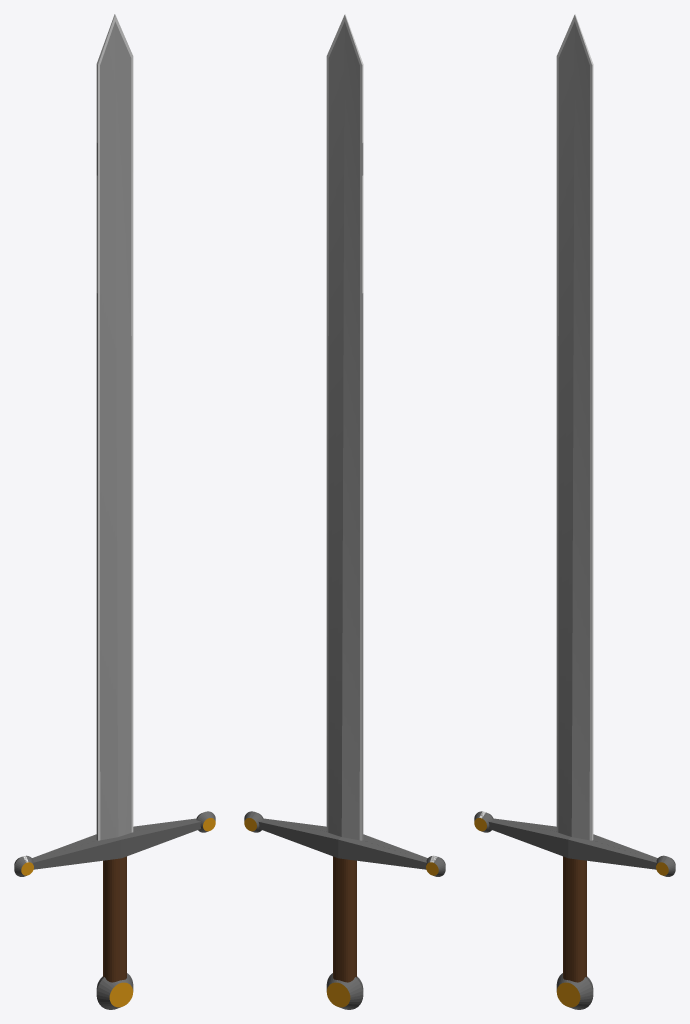
The model's file is Sword.fbx.
3 renders of one model, left to right at view 1: azimuth 30°, elevation 25°; view 2: azimuth 150°, elevation 25°; view 3: azimuth 330°, elevation 25°, orthographic.
Visible parts, largest first — view 1: Blade; view 2: Blade; view 3: Blade.
Part boxes in pixels (left/top/right/bottom): Blade: left=14, top=14, right=215, bottom=1009; Blade: left=244, top=14, right=445, bottom=1009; Blade: left=474, top=14, right=675, bottom=1009.
Bounding box in the file's own units: 17.94 × 84.6 × 2.07.
